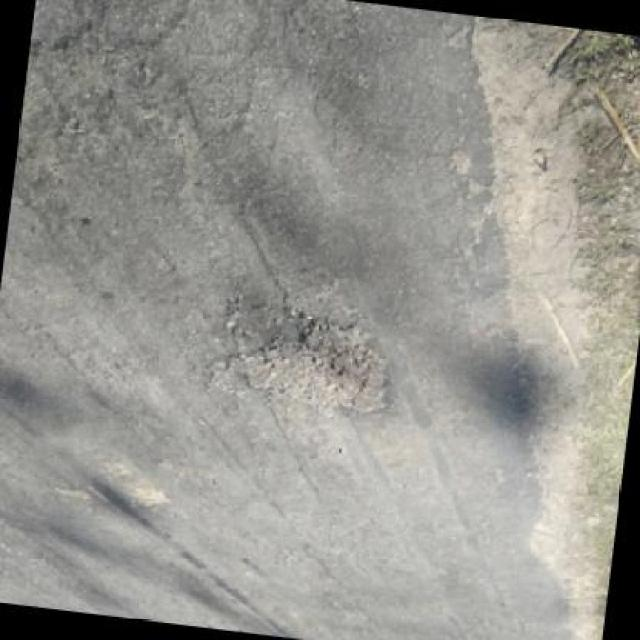pothole: (204, 302, 407, 427)
